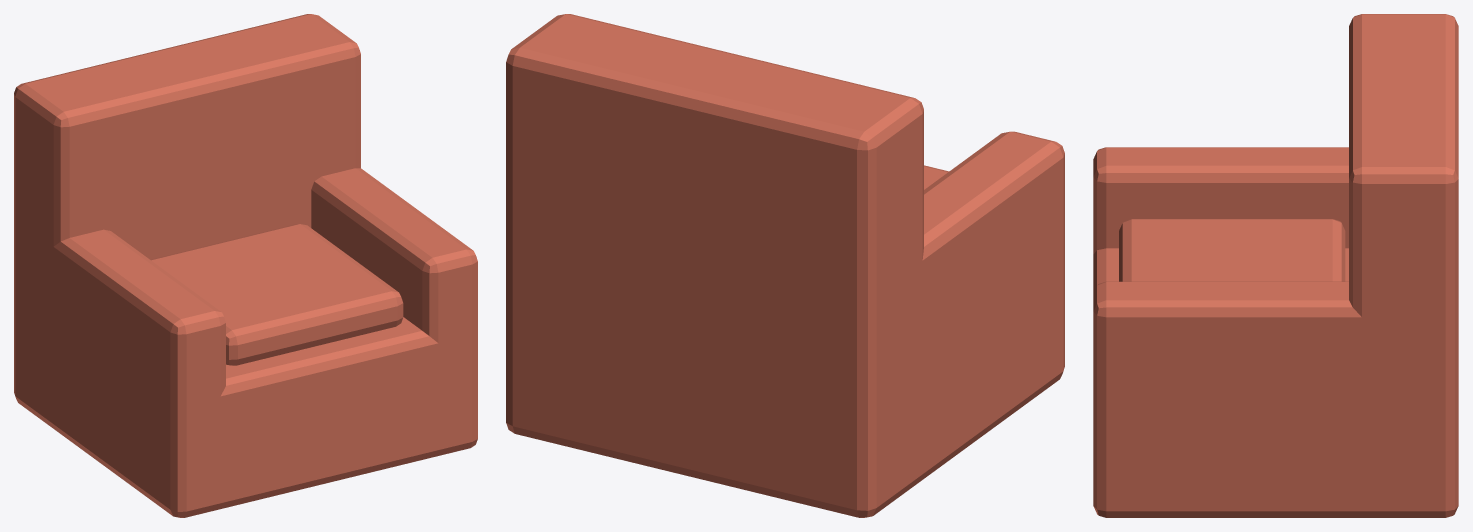
The model's file is hh_armchair.glb.
The picture shows the model from 3 angles, left to right: view 1: azimuth 30°, elevation 25°; view 2: azimuth 150°, elevation 25°; view 3: azimuth 270°, elevation 25°; orthographic projection. The views are drawn at different scales.
Visible parts, largest first — view 1: back, arm, base, cushion, arm.001; view 2: back, arm, base, arm.001; view 3: arm.001, back, base, arm, cushion.
Part boxes in pixels (bbox=[...]): back: bbox=[14, 14, 360, 429]; arm: bbox=[14, 216, 225, 517]; base: bbox=[14, 287, 477, 516]; cushion: bbox=[150, 224, 403, 365]; arm.001: bbox=[311, 168, 477, 449]; back: bbox=[506, 14, 923, 516]; arm: bbox=[816, 131, 1064, 517]; base: bbox=[506, 238, 1064, 510]; arm.001: bbox=[506, 209, 555, 443]; arm.001: bbox=[1093, 281, 1458, 517]; back: bbox=[1349, 14, 1458, 517]; base: bbox=[1093, 248, 1458, 511]; arm: bbox=[1093, 147, 1348, 253]; cushion: bbox=[1119, 219, 1345, 281].
Size of the model in its own units: 0.9 by 0.9 by 0.85.
